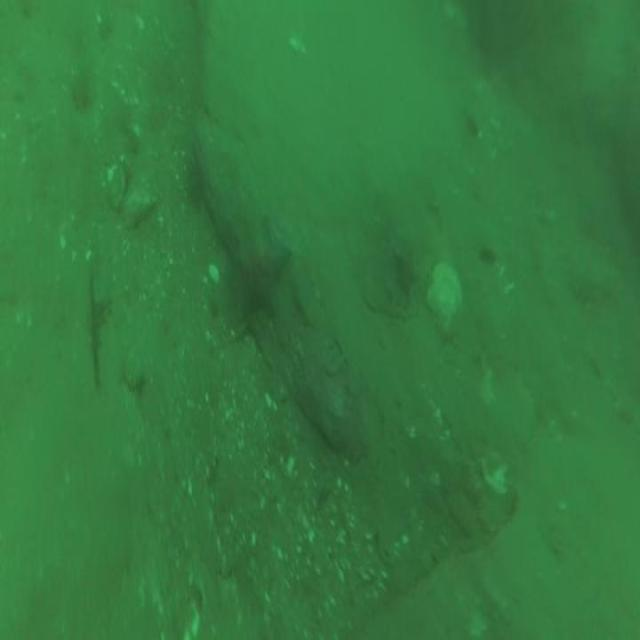holothurian: (562, 243, 626, 310)
scallop: (422, 258, 464, 344)
starfish: (228, 207, 294, 329)
